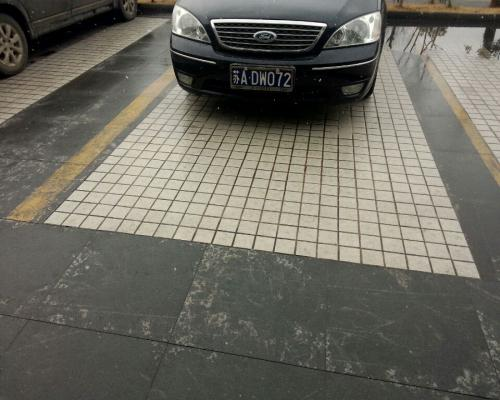Carplate: (225, 62, 299, 98)
